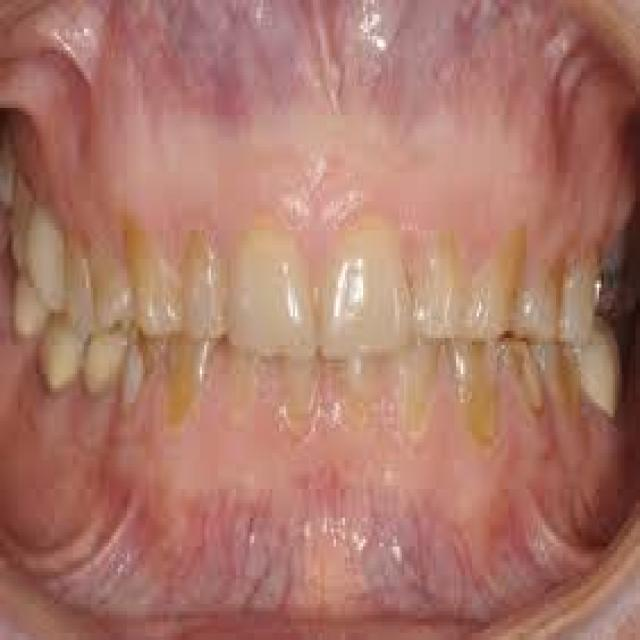tooth: (227, 198, 322, 363), (324, 208, 410, 352), (122, 212, 184, 342), (179, 205, 227, 349), (416, 212, 466, 345), (479, 219, 526, 345), (529, 219, 565, 349), (86, 223, 125, 334)
